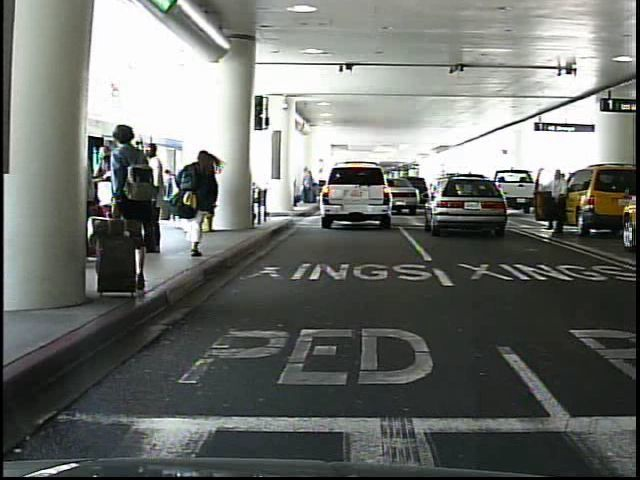person: (99, 118, 153, 294), (182, 145, 224, 264), (139, 142, 169, 250), (169, 157, 197, 233), (546, 173, 570, 237)
